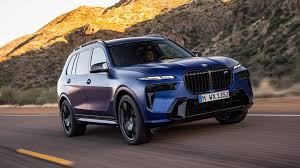car: (54, 34, 253, 148)
